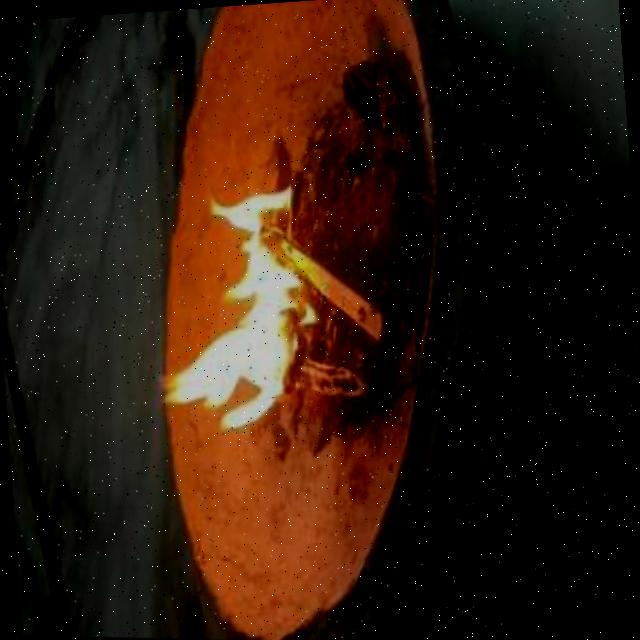fire: (141, 174, 327, 432)
